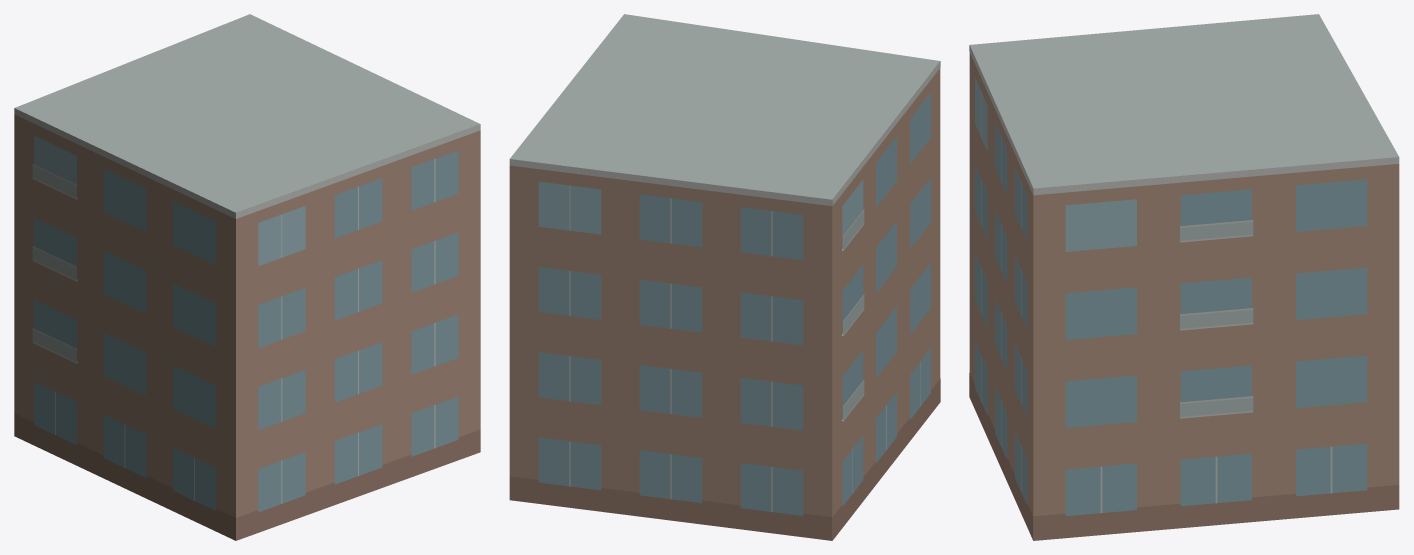
Rendered from survey-upis-32707283.glb.
The picture shows the model from 3 angles, left to right: view 1: azimuth 30°, elevation 25°; view 2: azimuth 150°, elevation 25°; view 3: azimuth 270°, elevation 25°; orthographic projection. The views are drawn at different scales.
Parts seen in each view (by area): view 1: survey-upis-32707283.tmp; view 2: survey-upis-32707283.tmp; view 3: survey-upis-32707283.tmp.
Part boxes in pixels (x1=…): survey-upis-32707283.tmp: x1=14, y1=14, x2=480, y2=540; survey-upis-32707283.tmp: x1=509, y1=14, x2=940, y2=540; survey-upis-32707283.tmp: x1=969, y1=14, x2=1399, y2=540.
Bounding box in the file's own units: 13.62 × 12.8 × 14.17.
